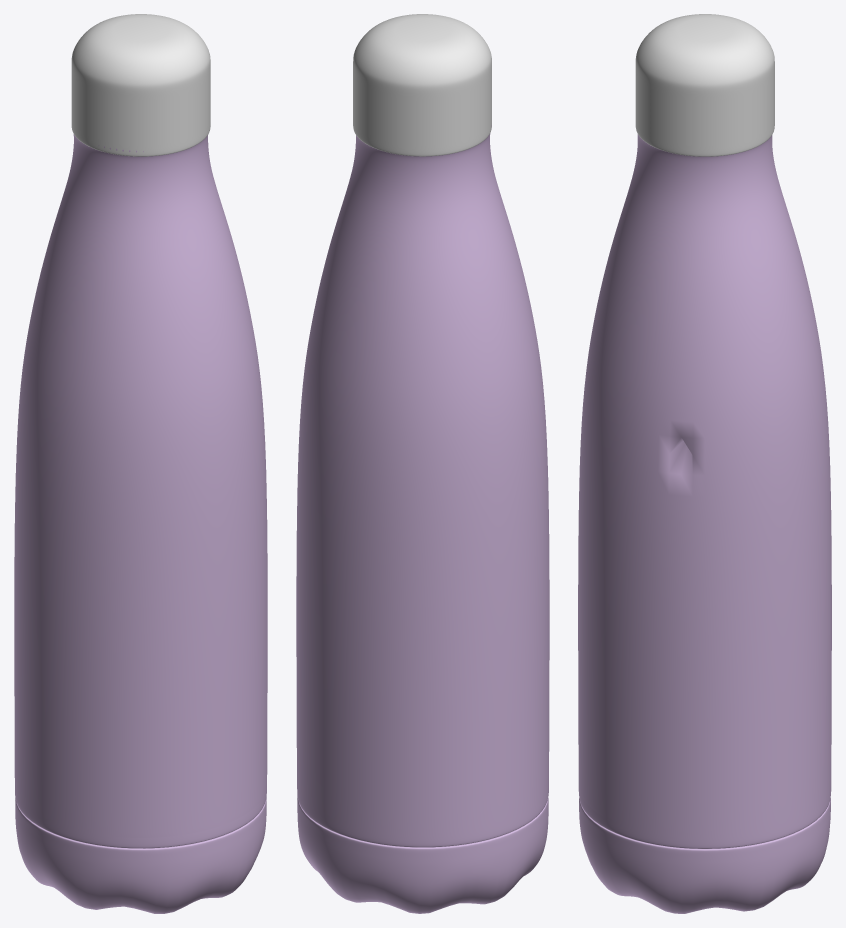
The model's file is bottle.glb.
3 renders of one model, left to right at view 1: azimuth 30°, elevation 25°; view 2: azimuth 150°, elevation 25°; view 3: azimuth 270°, elevation 25°, orthographic.
Visible parts, largest first — view 1: bottle, cap; view 2: bottle, cap; view 3: bottle, cap.
Boxes of the visible parts, x1,y1,x2,y2 form: bottle: [14, 134, 267, 913]; cap: [71, 14, 210, 156]; bottle: [296, 125, 549, 913]; cap: [353, 14, 491, 156]; bottle: [578, 134, 831, 913]; cap: [635, 14, 774, 156].
Size of the model in its own units: 0.5395 by 1.99 by 0.5395.
